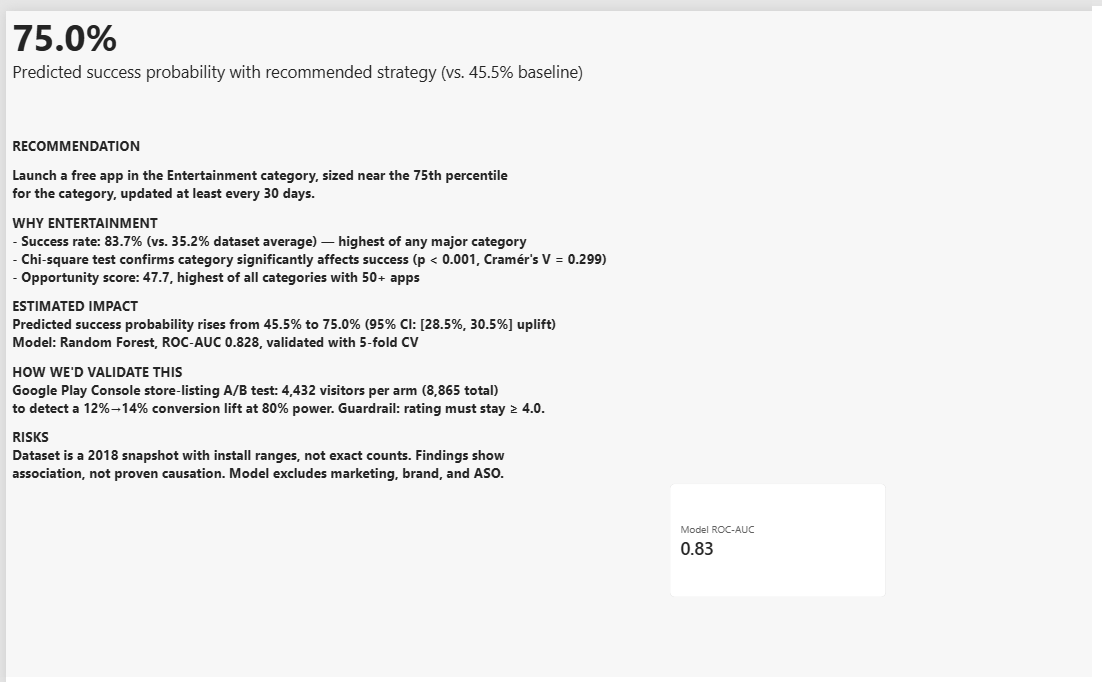

Layout of this report page (visuals, bound fields, positions):
{"tool":"powerbi","page":{"name":"Recommendation","canvas":[1920,1080],"ordinal":3},"visuals":[{"type":"textbox","box":[10,0,950,118],"z":0},{"type":"textbox","box":[10,200,1226,592],"z":1},{"type":"cardVisual","fields":{"Data":["APPS.Model ROC-AUC"]},"box":[1062,756,346,182],"z":3}]}

Visuals, with their boxes on the page's 1920x1080 design canvas (x1, y1, x2, y2). These are canvas units, not pixel positions in the 1102x682 screenshot, which may show the page scaled, cropped or inside an application window:
textbox: 10 0 960 118
textbox: 10 200 1236 792
cardVisual - APPS.Model ROC-AUC: 1062 756 1408 938
